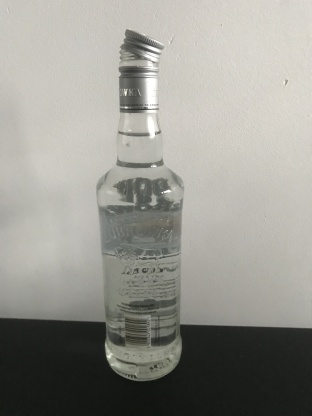nakretka: (116, 26, 165, 114)
